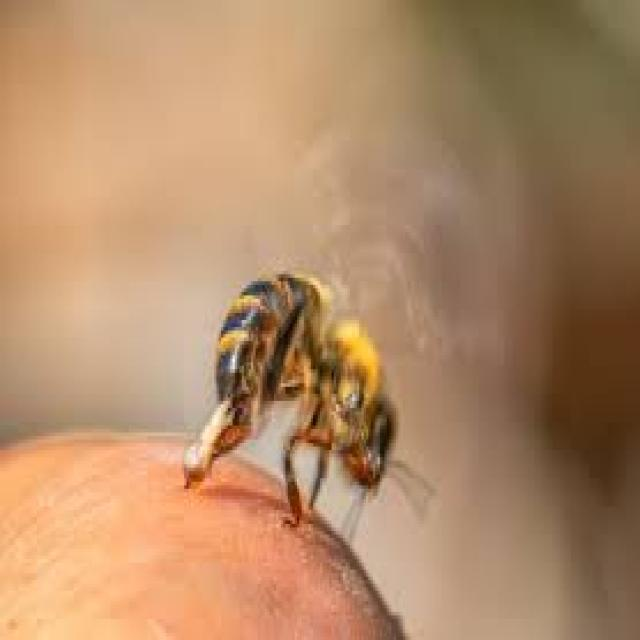Bees: (188, 271, 400, 534)
